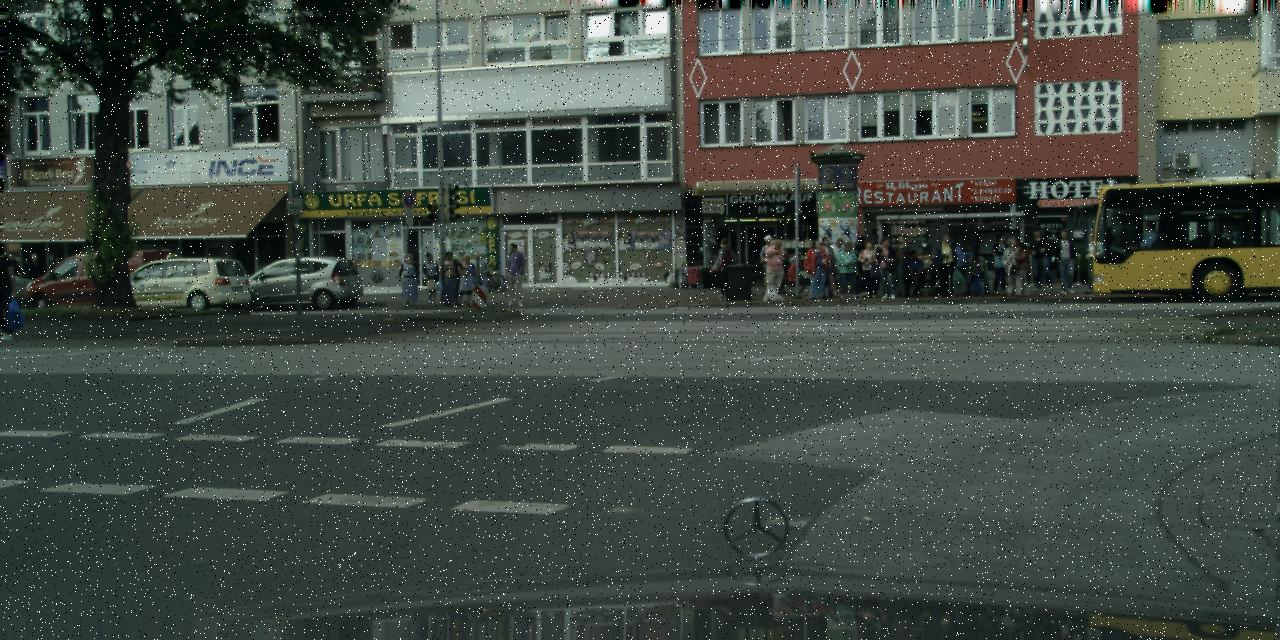ped: (932, 232, 958, 296), (1053, 228, 1078, 292), (501, 242, 526, 306), (814, 235, 840, 296), (1028, 227, 1053, 289), (1084, 232, 1108, 294), (874, 236, 898, 298), (987, 233, 1011, 294), (712, 238, 736, 298), (716, 237, 740, 297), (893, 235, 917, 294), (826, 237, 850, 296), (850, 235, 874, 294), (1000, 236, 1024, 294), (805, 240, 829, 298), (764, 239, 787, 297), (858, 241, 881, 297), (760, 234, 782, 290), (836, 242, 858, 297), (438, 251, 460, 305), (1011, 241, 1032, 295), (420, 251, 441, 305), (454, 254, 475, 306), (766, 238, 786, 290), (400, 253, 420, 304), (467, 252, 487, 300), (26, 253, 42, 295), (7, 259, 22, 295)
